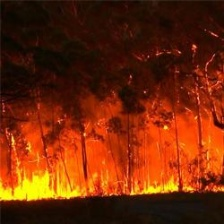fire: (1, 136, 220, 208)
